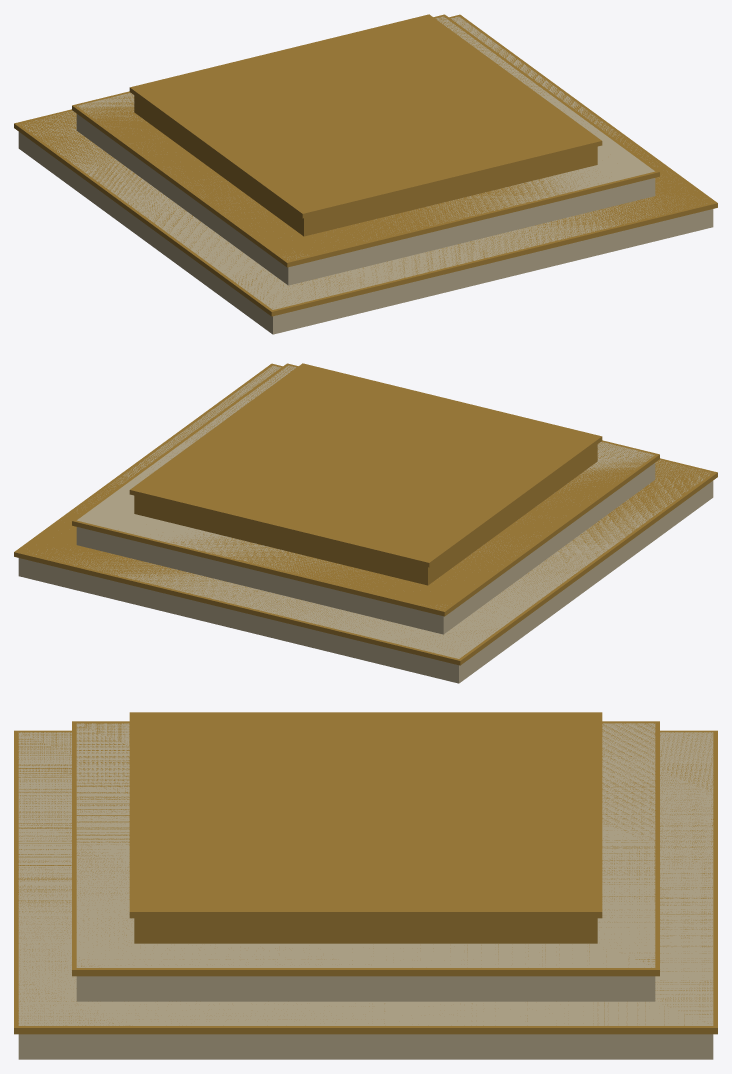
File: palace_f_dais.glb
The picture shows the model from 3 angles, top to bottom: view 1: azimuth 30°, elevation 25°; view 2: azimuth 150°, elevation 25°; view 3: azimuth 270°, elevation 25°; orthographic projection. The views are drawn at different scales.
Visible parts, largest first — view 1: sw5e_int_palace_f_dais; view 2: sw5e_int_palace_f_dais; view 3: sw5e_int_palace_f_dais.
Part boxes in pixels (left/top/right/bottom): sw5e_int_palace_f_dais: left=14, top=14, right=717, bottom=334; sw5e_int_palace_f_dais: left=14, top=363, right=717, bottom=683; sw5e_int_palace_f_dais: left=14, top=712, right=717, bottom=1059.
Size of the model in its own units: 3.04 by 0.48 by 3.04.
